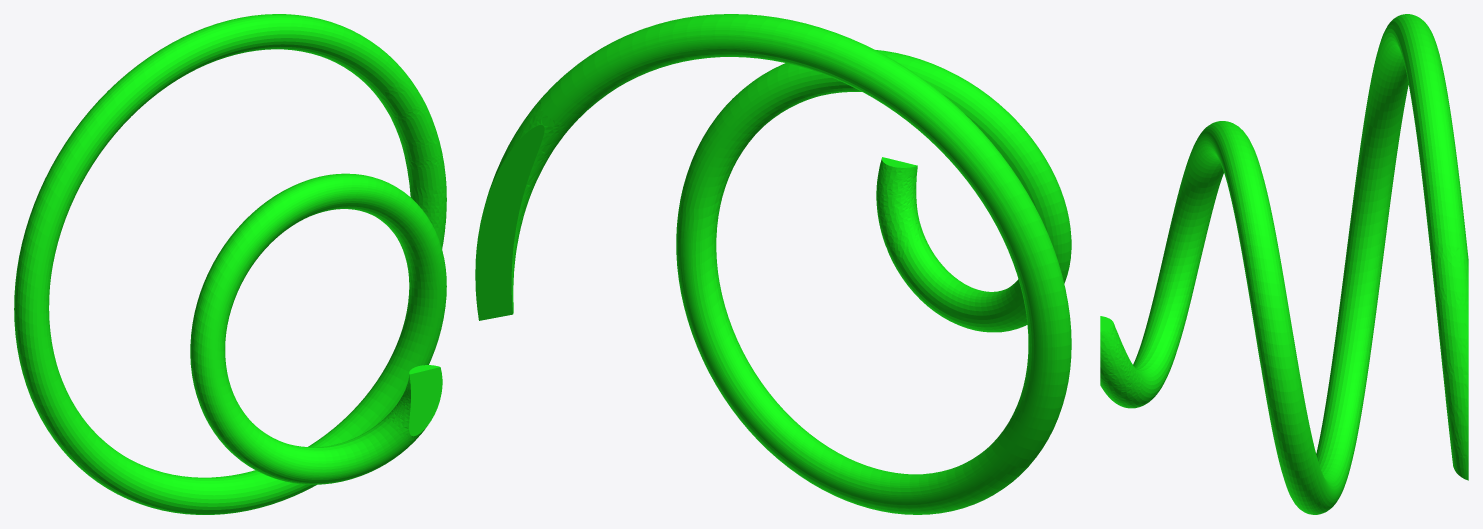
Rendered from outlet_spring.obj.
3 views of the same model, side by side, from view 1: azimuth 30°, elevation 25°; view 2: azimuth 150°, elevation 25°; view 3: azimuth 270°, elevation 25° (orthographic). The views are drawn at different scales.
Visible parts, largest first — view 1: outlet_spring_Cut001; view 2: outlet_spring_Cut001; view 3: outlet_spring_Cut001.
Boxes of the visible parts, bbox=[...] form: outlet_spring_Cut001: bbox=[14, 14, 446, 514]; outlet_spring_Cut001: bbox=[475, 14, 1071, 514]; outlet_spring_Cut001: bbox=[1100, 14, 1468, 514].
Size of the model in its own units: 0.9186 by 0.8321 by 0.594.
